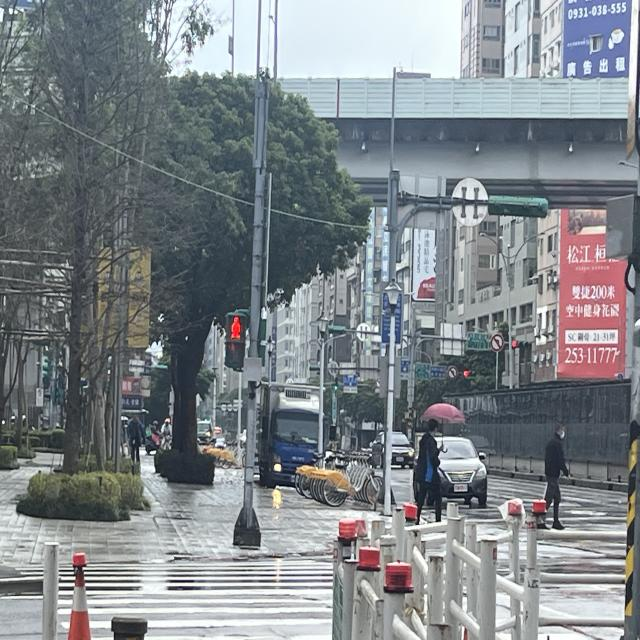red light: (227, 314, 248, 368), (512, 339, 532, 351), (462, 367, 479, 379)
